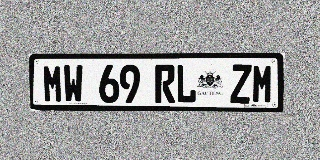6: (99, 64, 119, 103)
9: (120, 64, 140, 103)
L: (176, 64, 197, 103)
M: (252, 64, 273, 103), (42, 65, 63, 103)
R: (155, 64, 175, 103)
W: (63, 65, 84, 103)
Z: (230, 64, 252, 103)
